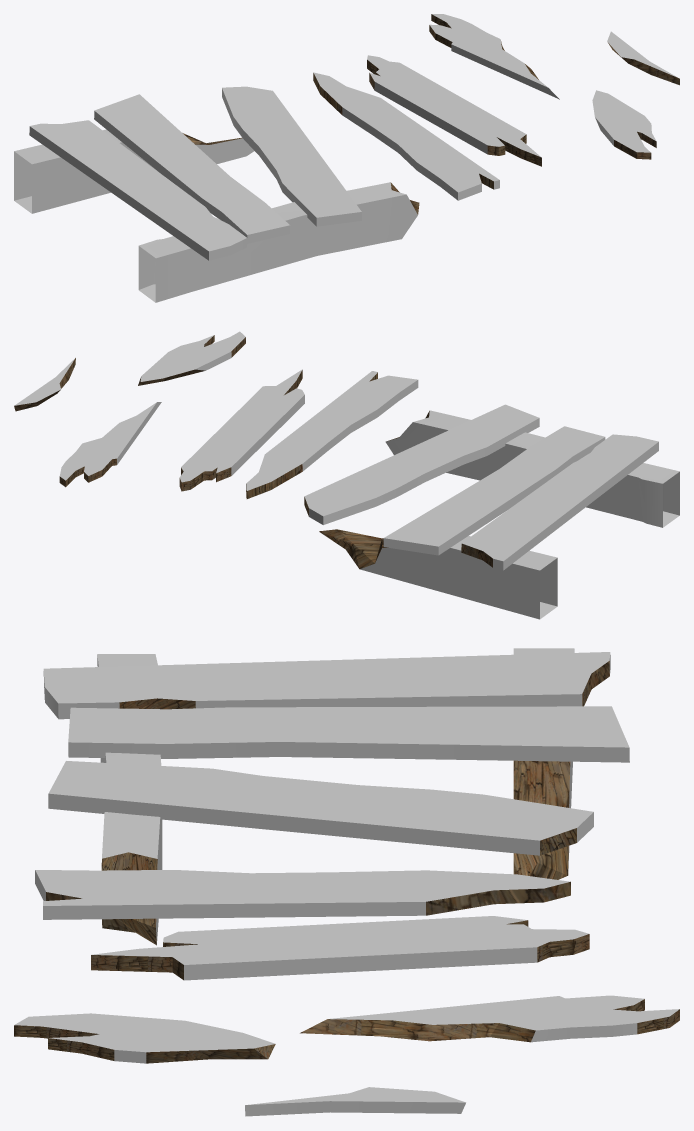
The model's file is lower_city_levitating_platform_01.fbx.
The picture shows the model from 3 angles, top to bottom: view 1: azimuth 30°, elevation 25°; view 2: azimuth 150°, elevation 25°; view 3: azimuth 270°, elevation 25°; orthographic projection. The views are drawn at different scales.
Visible parts, largest first — view 1: platform, levitating_wood_1, levitating_wood_5, levitating_wood_2, levitating_wood_4, levitating_wood_3, levitating_wood_6; view 2: platform, levitating_wood_1, levitating_wood_5, levitating_wood_2, levitating_wood_4, levitating_wood_3, levitating_wood_6; view 3: platform, levitating_wood_1, levitating_wood_5, levitating_wood_2, levitating_wood_4, levitating_wood_3, levitating_wood_6.
Part boxes in pixels (<box>): platform: <box>14,94,419,302</box>; levitating_wood_1: <box>222,86,361,226</box>; levitating_wood_5: <box>313,72,499,200</box>; levitating_wood_2: <box>367,55,541,166</box>; levitating_wood_4: <box>429,14,559,99</box>; levitating_wood_3: <box>592,90,656,159</box>; levitating_wood_6: <box>607,31,679,85</box>; platform: <box>319,410,679,619</box>; levitating_wood_1: <box>304,404,539,524</box>; levitating_wood_5: <box>246,371,418,498</box>; levitating_wood_2: <box>179,369,304,491</box>; levitating_wood_4: <box>59,402,161,487</box>; levitating_wood_3: <box>138,331,245,385</box>; levitating_wood_6: <box>14,358,75,411</box>; platform: <box>43,648,629,945</box>; levitating_wood_1: <box>48,761,593,855</box>; levitating_wood_5: <box>35,870,570,919</box>; levitating_wood_2: <box>91,916,589,980</box>; levitating_wood_4: <box>300,995,679,1042</box>; levitating_wood_3: <box>14,1013,275,1063</box>; levitating_wood_6: <box>245,1087,465,1116</box>.
Size of the model in its own units: 3.35 by 0.3405 by 2.02.
